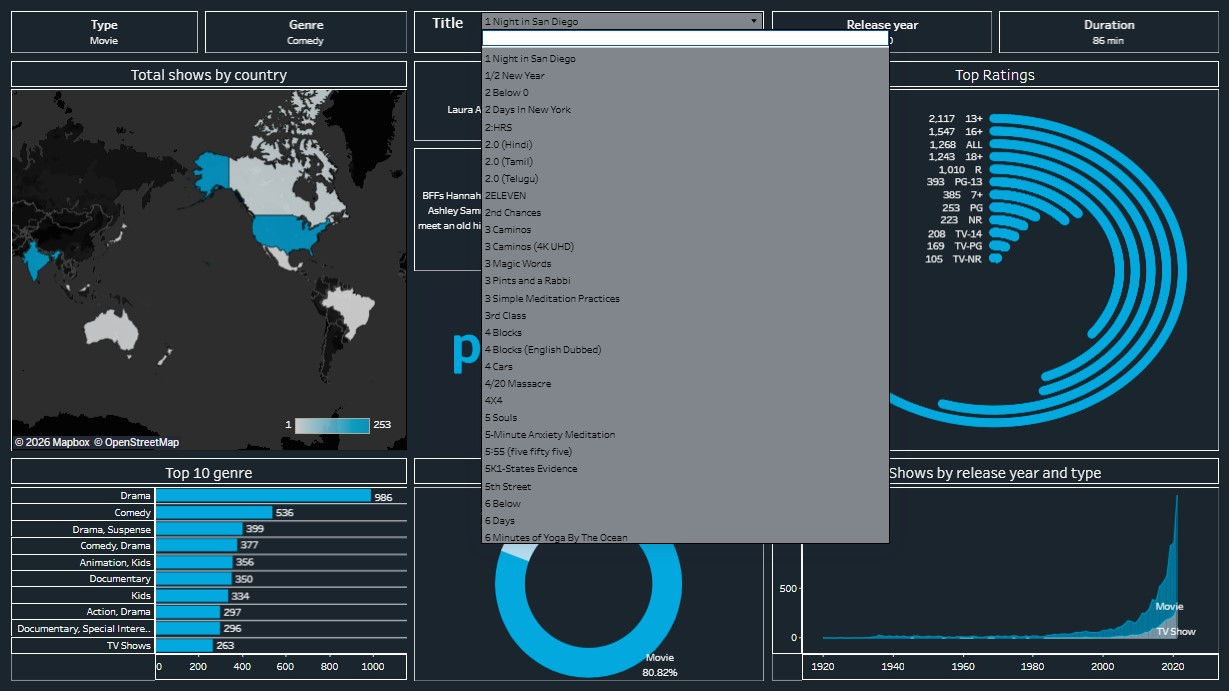

What the dashboard file says about the page in this screenshot:
{"tool":"tableau","page":{"name":"Dashboard 1","canvas":[1850,1050],"ordinal":0},"visuals":[{"type":"worksheet","title":"Type","mark":"Automatic","box":[8,8,294,75]},{"type":"worksheet","title":"Genre","mark":"Automatic","box":[302,8,314,75]},{"type":"filter","title":"Description","param":"[federated.032nn4a1fm59vu10a4pvg1q48enu].[none:title:nk]","box":[616,8,540,75]},{"type":"worksheet","title":"Release year","mark":"Automatic","box":[1156,8,344,75]},{"type":"worksheet","title":"Duration","mark":"Automatic","box":[1500,8,342,75]},{"type":"worksheet","title":"Total shows by country","mark":"Multipolygon","box":[8,83,608,609]},{"type":"worksheet","title":"Cast","mark":"Automatic","box":[616,83,540,134]},{"type":"worksheet","title":"Top Ratings","mark":"Line","box":[1156,83,686.1,609]},{"type":"worksheet","title":"Description","mark":"Automatic","box":[616,217,540,133]},{"type":"image","param":"Image/Prime video logo.png","box":[616,350,540,342]},{"type":"legend","title":"Total shows by country","param":"[federated.032nn4a1fm59vu10a4pvg1q48enu].[ctd:show_id:qk]","box":[424,629,170,38]},{"type":"worksheet","title":"Top 10 genre","mark":"Automatic","rows":["listed_in"],"cols":["show_id"],"box":[8,692,608,350]},{"type":"worksheet","title":"Shows by type","mark":"Pie","rows":["Calculation_0710307695812613","Calculation_0710307695812613"],"box":[616,692,540,350]},{"type":"worksheet","title":"Shows by release year and type","mark":"Area","rows":["show_id"],"cols":["release_year"],"box":[1156,692,686.1,350]}]}

Visuals, with their boxes in screenshot pixels (x1, y1, x2, y2), scaled from the page's 1850x1050 canvas onto the 1229x691 screenshot:
"Type" worksheet: bbox=[5, 5, 201, 55]
"Genre" worksheet: bbox=[201, 5, 409, 55]
"Description" filter: bbox=[409, 5, 768, 55]
"Release year" worksheet: bbox=[768, 5, 996, 55]
"Duration" worksheet: bbox=[996, 5, 1224, 55]
"Total shows by country" worksheet (Multipolygon marks): bbox=[5, 55, 409, 455]
"Cast" worksheet: bbox=[409, 55, 768, 143]
"Top Ratings" worksheet (Line marks): bbox=[768, 55, 1224, 455]
"Description" worksheet: bbox=[409, 143, 768, 230]
image: bbox=[409, 230, 768, 455]
"Total shows by country" legend: bbox=[282, 414, 395, 439]
"Top 10 genre" worksheet: bbox=[5, 455, 409, 686]
"Shows by type" worksheet (Pie marks): bbox=[409, 455, 768, 686]
"Shows by release year and type" worksheet (Area marks): bbox=[768, 455, 1224, 686]
